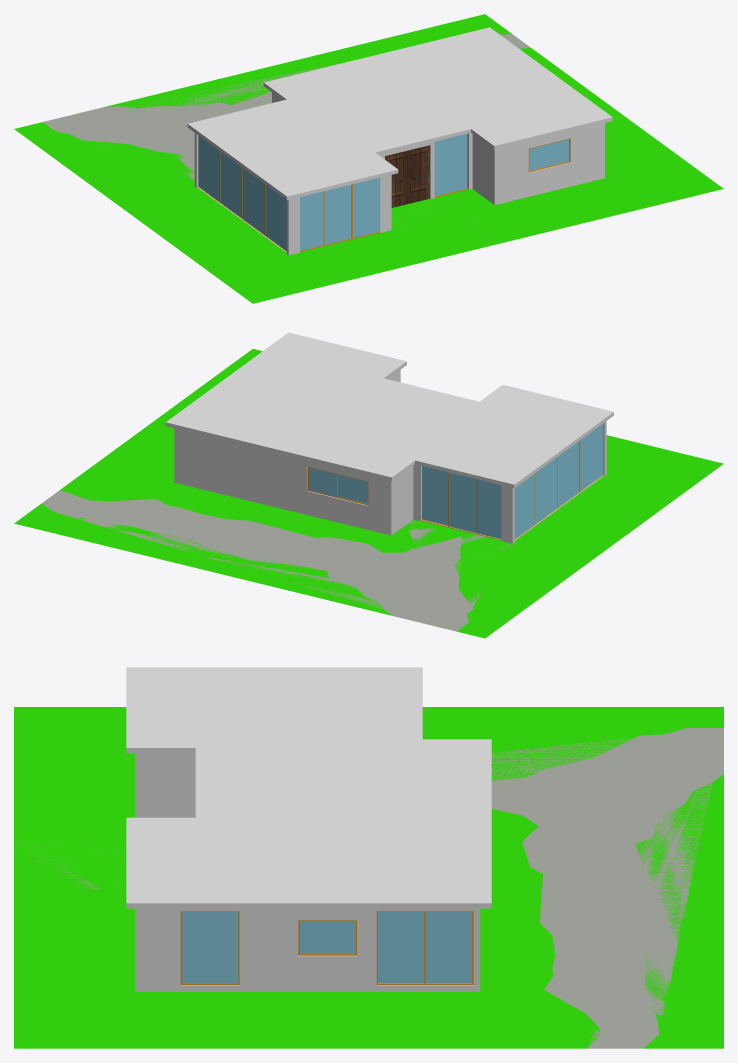
Rendered from Cimientos.fbx.
The picture shows the model from 3 angles, top to bottom: view 1: azimuth 30°, elevation 25°; view 2: azimuth 150°, elevation 25°; view 3: azimuth 270°, elevation 25°; orthographic projection. The views are drawn at different scales.
Visible parts, largest first — view 1: Plano, Techo, Muros, Ventana.003, Ventana.002, Ventana.014, Puerta.028, Puerta.027, Ventana.025; view 2: Plano, Techo, Muros, Ventana.003, Ventana.001, Ventana_Deslizable.011, Ventana.017, Ventana_Deslizable.018; view 3: Plano, Techo, Muros, Ventana.023, Ventana.026, Ventana.024, Marco.021.
Boxes of the visible parts, bbox=[...] form: Plano: bbox=[14, 14, 723, 303]; Techo: bbox=[187, 27, 612, 200]; Muros: bbox=[194, 92, 604, 255]; Ventana.003: bbox=[198, 135, 286, 250]; Ventana.002: bbox=[300, 177, 380, 250]; Ventana.014: bbox=[434, 134, 466, 195]; Puerta.028: bbox=[407, 145, 429, 203]; Puerta.027: bbox=[385, 151, 407, 207]; Ventana.025: bbox=[529, 139, 568, 170]; Plano: bbox=[14, 349, 723, 638]; Techo: bbox=[165, 332, 613, 488]; Muros: bbox=[174, 370, 606, 543]; Ventana.003: bbox=[514, 424, 602, 538]; Ventana.001: bbox=[449, 472, 501, 538]; Ventana_Deslizable.011: bbox=[422, 466, 448, 525]; Ventana.017: bbox=[338, 475, 367, 503]; Ventana_Deslizable.018: bbox=[309, 468, 337, 496]; Plano: bbox=[14, 707, 723, 1048]; Techo: bbox=[126, 667, 491, 908]; Muros: bbox=[135, 753, 480, 991]; Ventana.023: bbox=[378, 912, 471, 983]; Ventana.026: bbox=[182, 912, 238, 983]; Ventana.024: bbox=[300, 921, 355, 953]; Marco.021: bbox=[376, 911, 473, 985].
Size of the model in its own units: 2464 by 2164 by 310.
8 materials, 2 textured.
